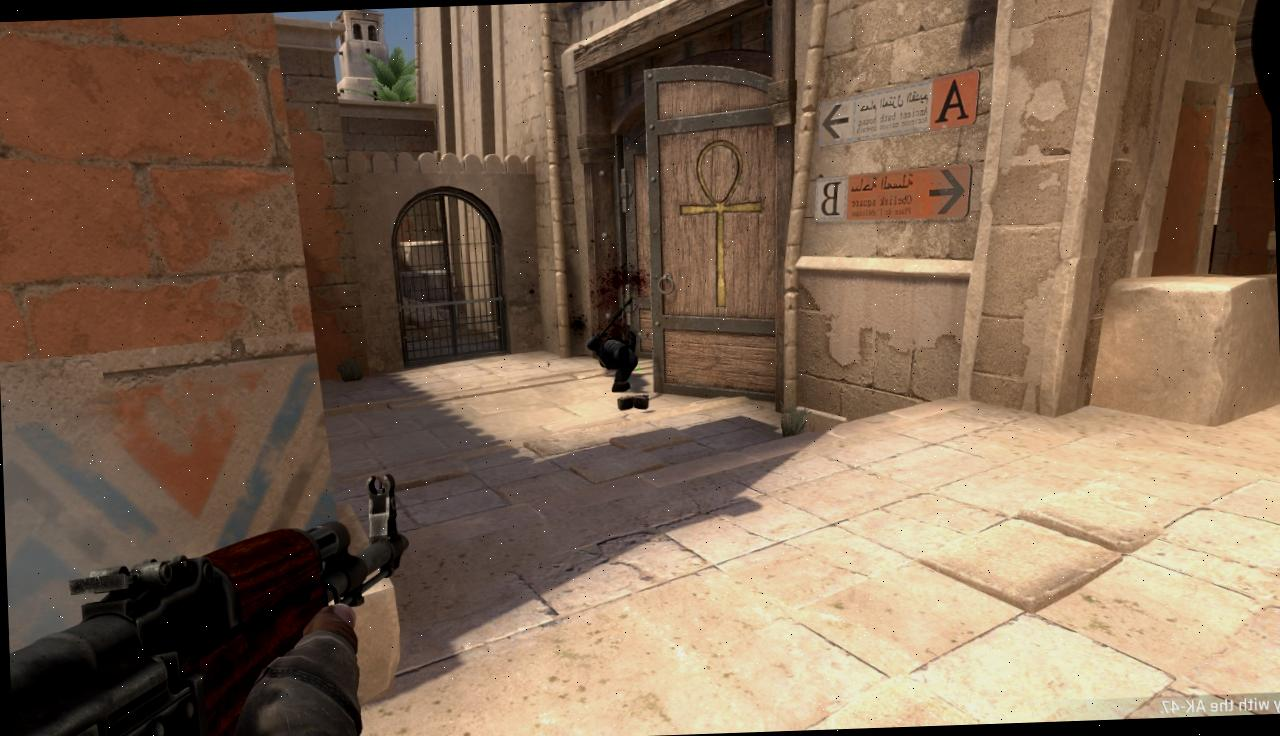rifle: (4, 475, 413, 736)
